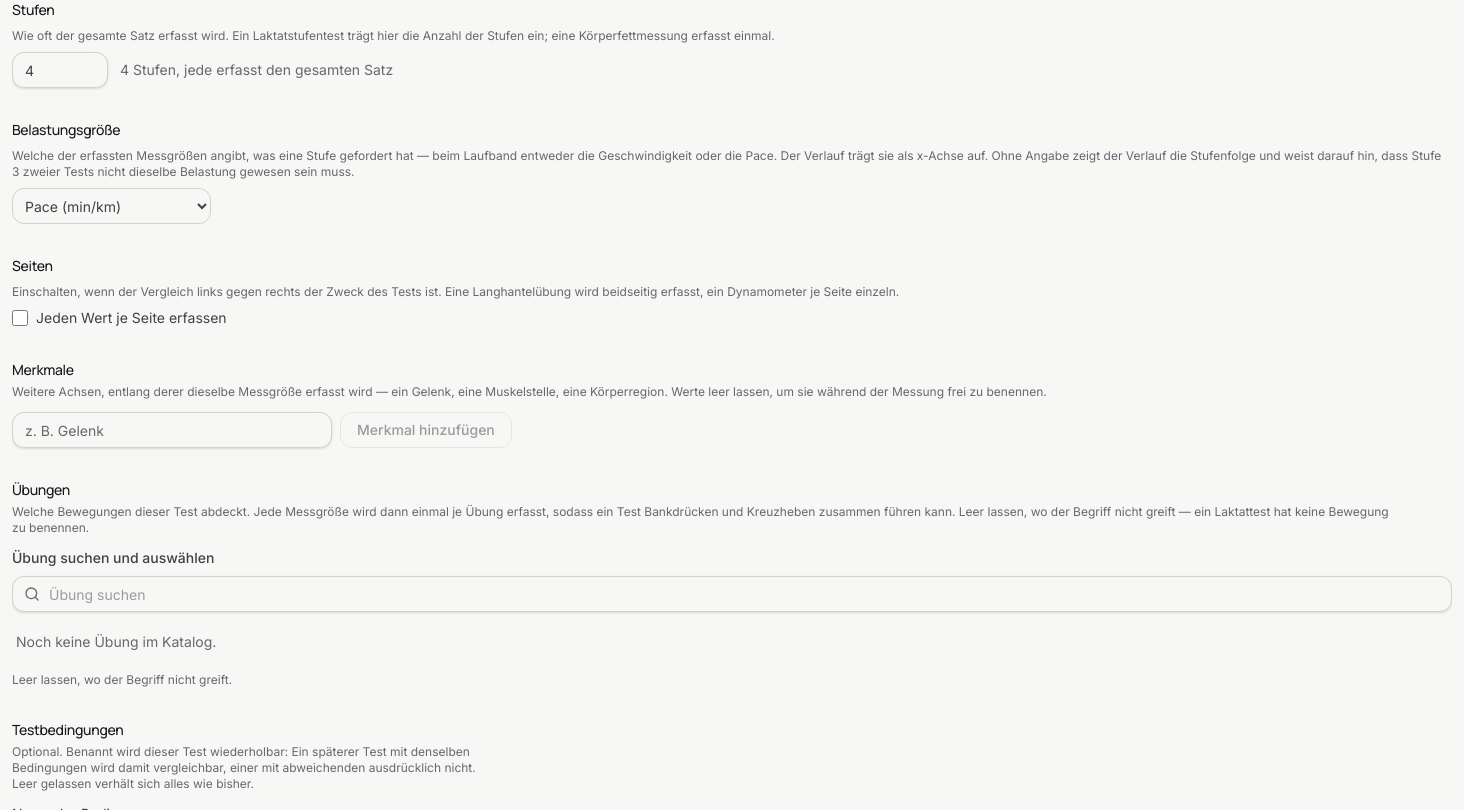
Test: naming the load quantity › lets a test name none
This screenshot has width=1464, height=810.
Select "Keine — nur Stufenfolge" in the dropdown named "Belastungsgröße": (112, 206) [12,188,211,224]
(page scrolled)
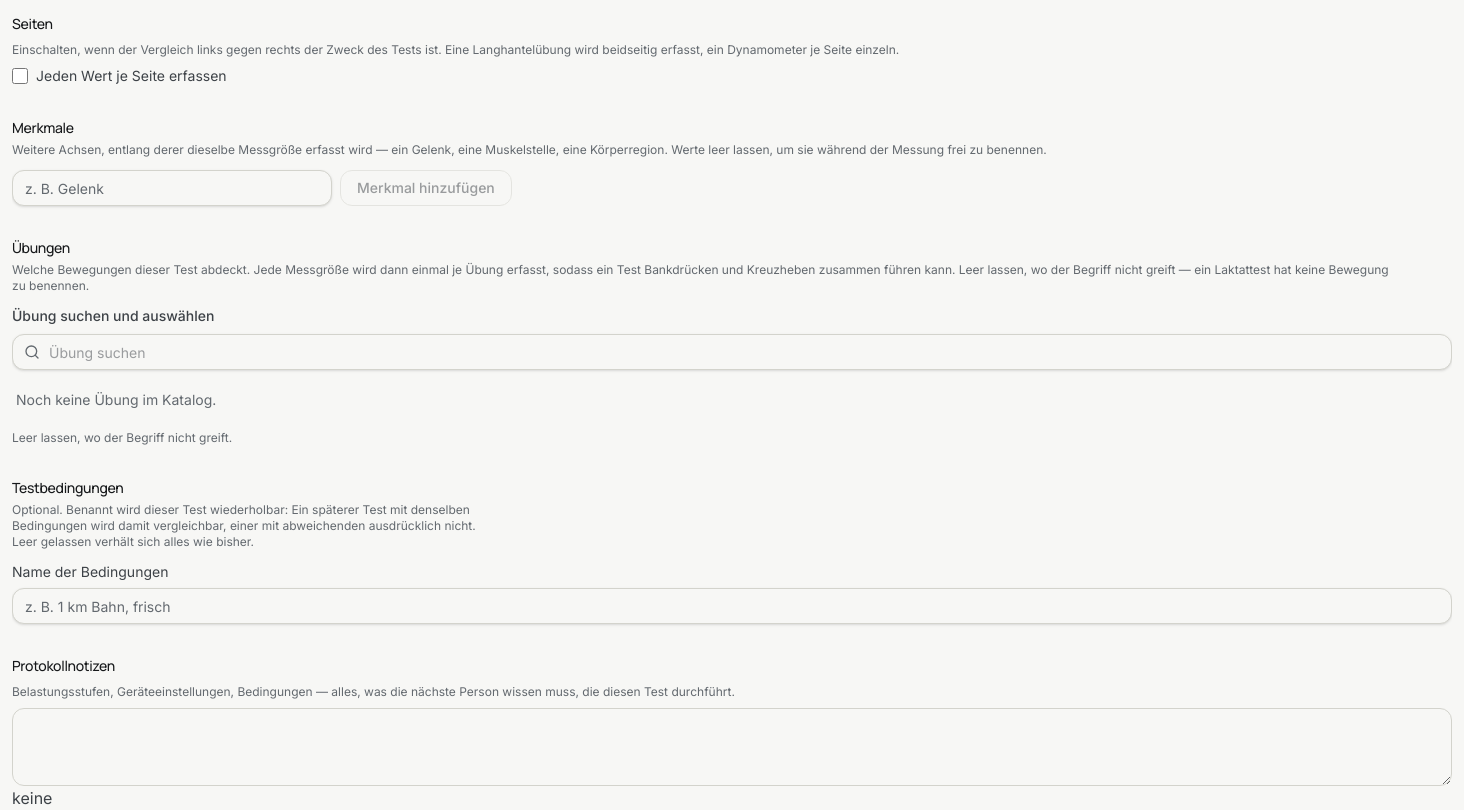
Now the text with test id "load" reads "keine", box [12,788,52,808]
